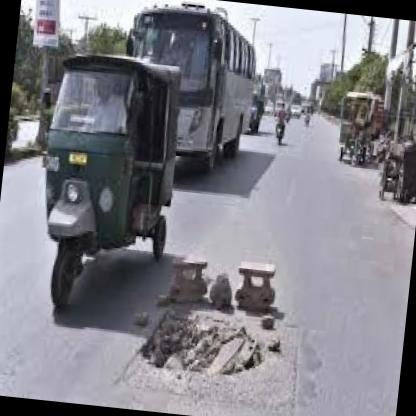manholes: (141, 298, 272, 392)
